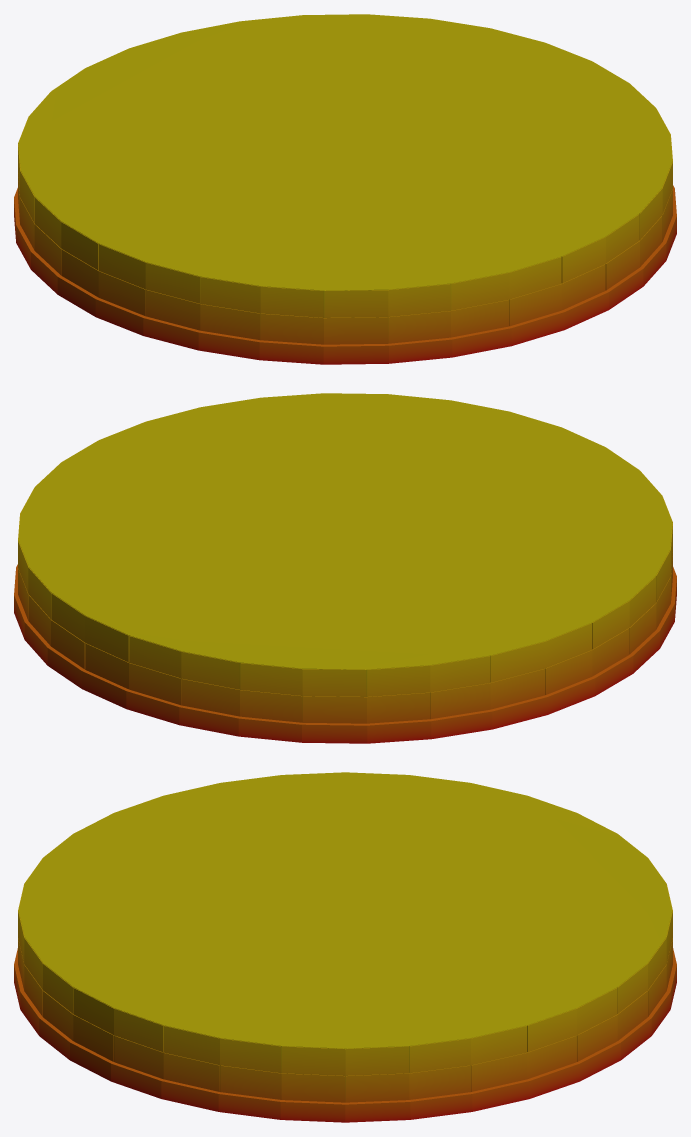
Rendered from plinth_round.glb.
3 renders of one model, top to bottom at view 1: azimuth 30°, elevation 25°; view 2: azimuth 150°, elevation 25°; view 3: azimuth 270°, elevation 25°, orthographic.
Visible parts, largest first — view 1: plinth_round; view 2: plinth_round; view 3: plinth_round.
Part boxes in pixels (x1,y1,x2,y2): plinth_round: [14, 14, 676, 364]; plinth_round: [14, 393, 676, 743]; plinth_round: [14, 772, 676, 1122].
Size of what is drawn, in the model's own units: 10 by 1.2 by 10.
